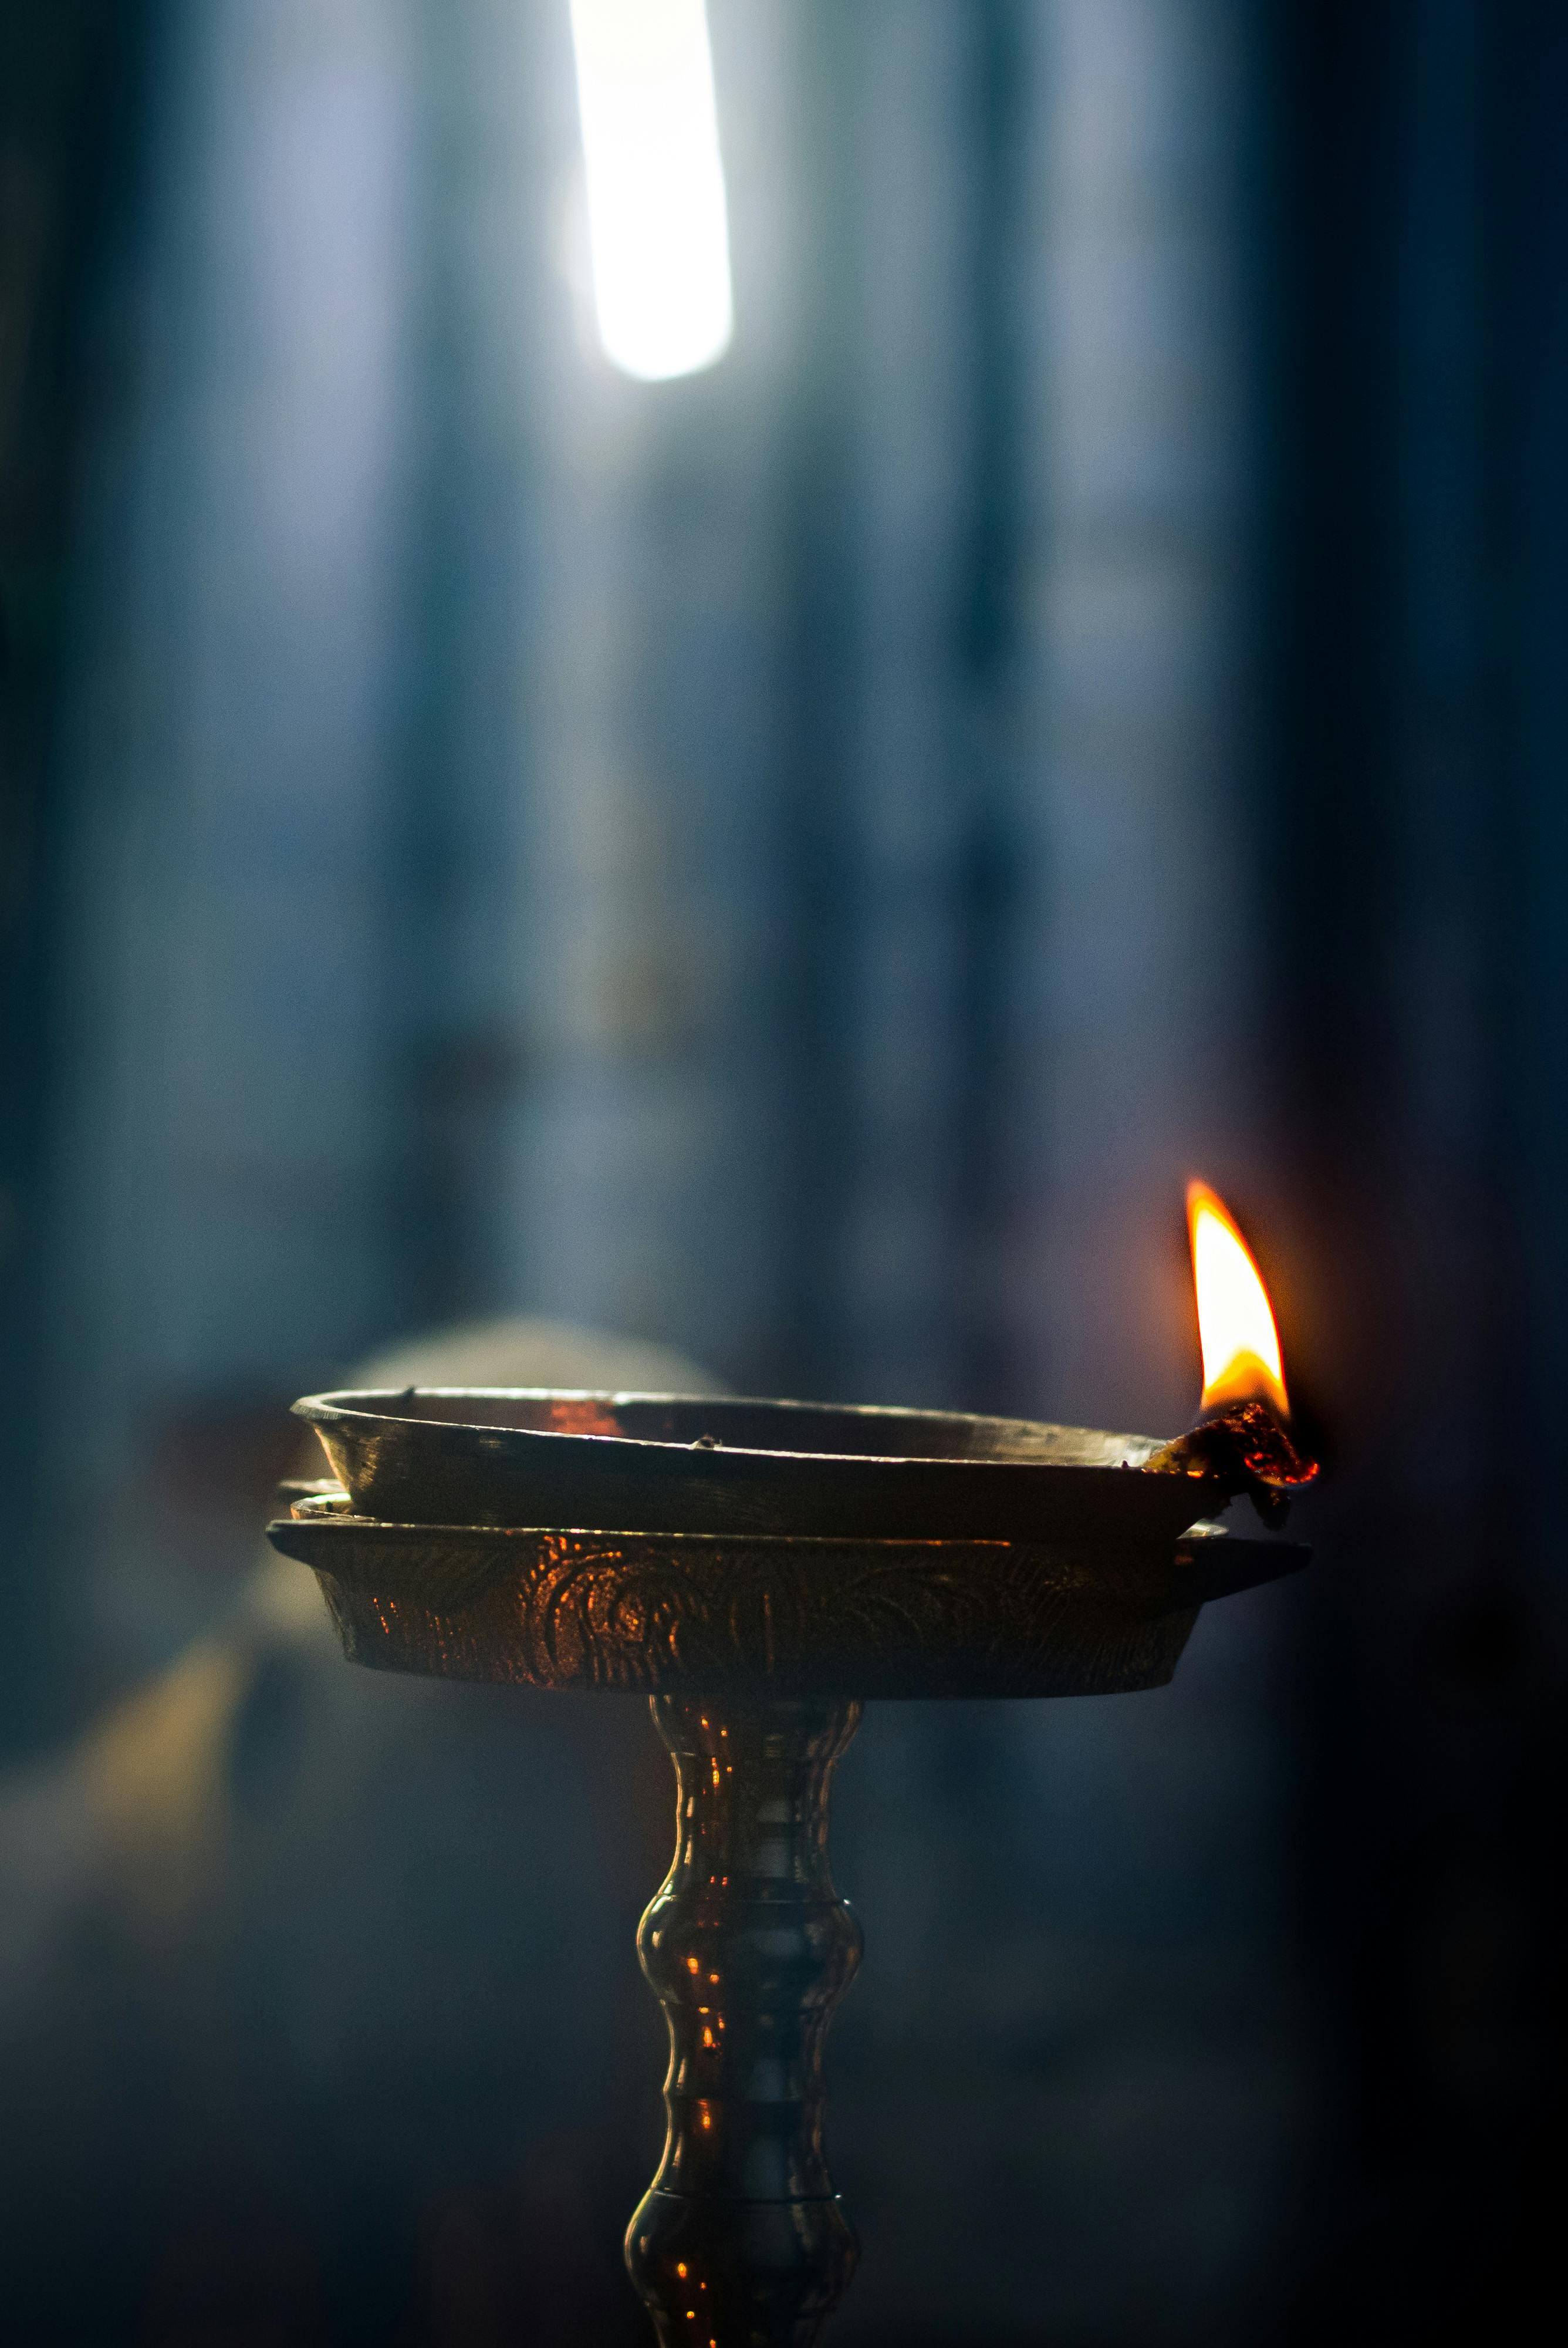Fire: (1129, 1164, 1311, 1452)
